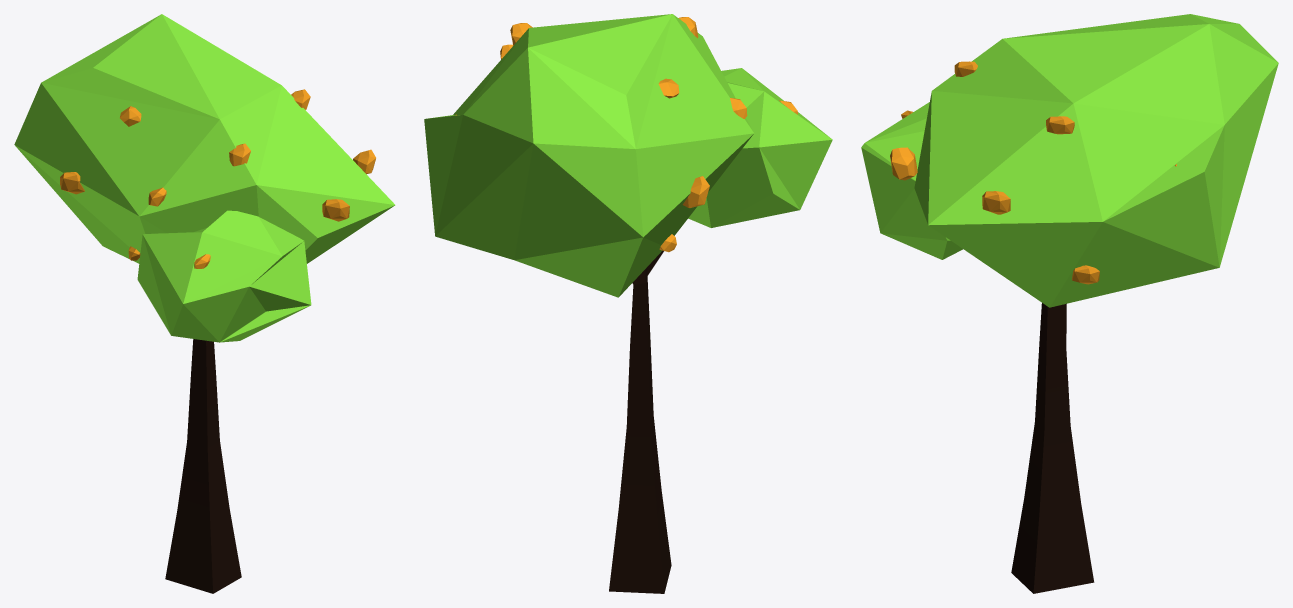
Rendered from apple tree1.FBX.
The picture shows the model from 3 angles, left to right: view 1: azimuth 30°, elevation 25°; view 2: azimuth 150°, elevation 25°; view 3: azimuth 270°, elevation 25°; orthographic projection. The views are drawn at different scales.
Parts seen in each view (by area): view 1: GeoSphere024, GeoSphere025, Box006, GeoSphere031; view 2: GeoSphere024, GeoSphere025, Box006, GeoSphere026; view 3: GeoSphere024, Box006, GeoSphere025, GeoSphere031, GeoSphere037.
Boxes of the visible parts, x1,y1,x2,y2 form: GeoSphere024: (14,14,395,263); GeoSphere025: (137,210,311,342); Box006: (165,339,241,593); GeoSphere031: (322,199,349,221); GeoSphere024: (424,14,754,297); GeoSphere025: (688,68,832,227); Box006: (609,250,671,593); GeoSphere026: (682,176,709,207); GeoSphere024: (914,14,1278,307); Box006: (1011,303,1094,593); GeoSphere025: (861,102,962,259); GeoSphere031: (890,147,917,180); GeoSphere037: (982,191,1010,214).
Size of the model in its own units: 7.07 by 13.92 by 9.25.
